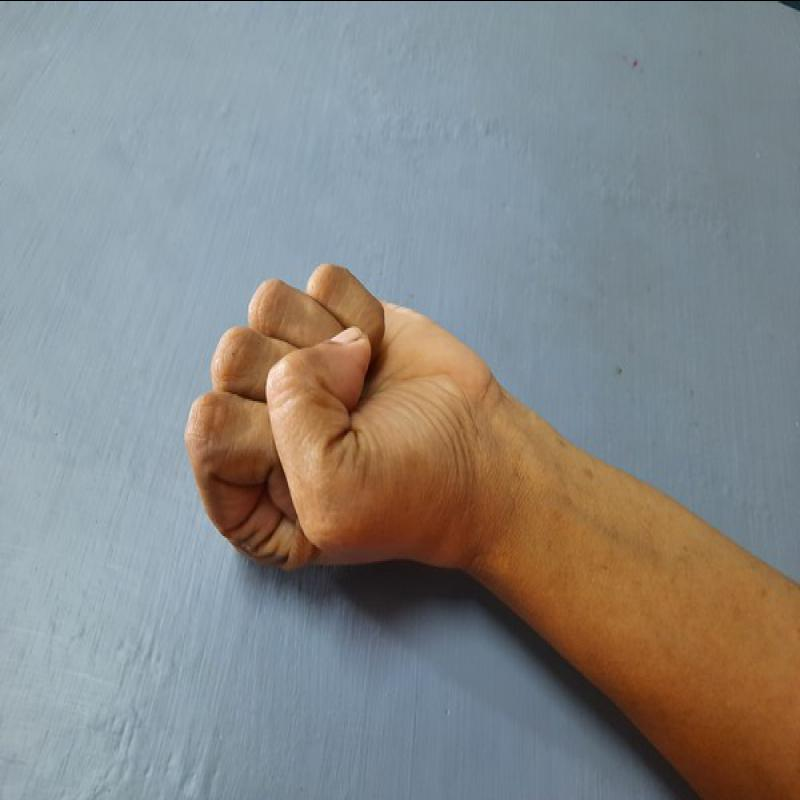Mushti: (174, 253, 497, 588)
